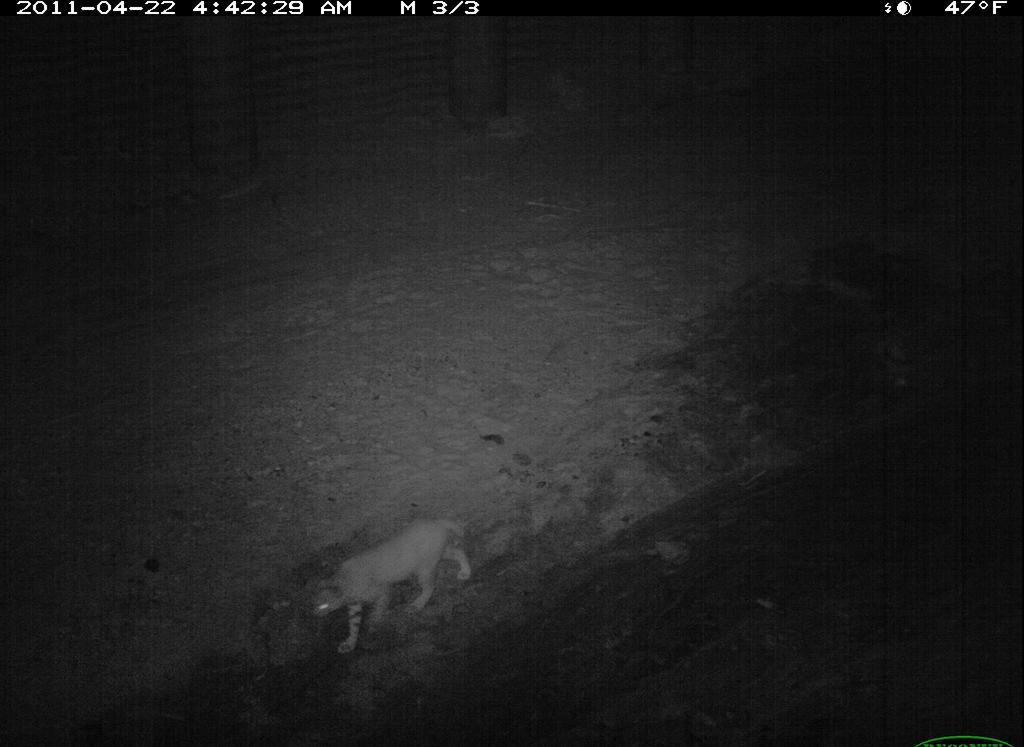bobcat: (294, 507, 487, 667)
